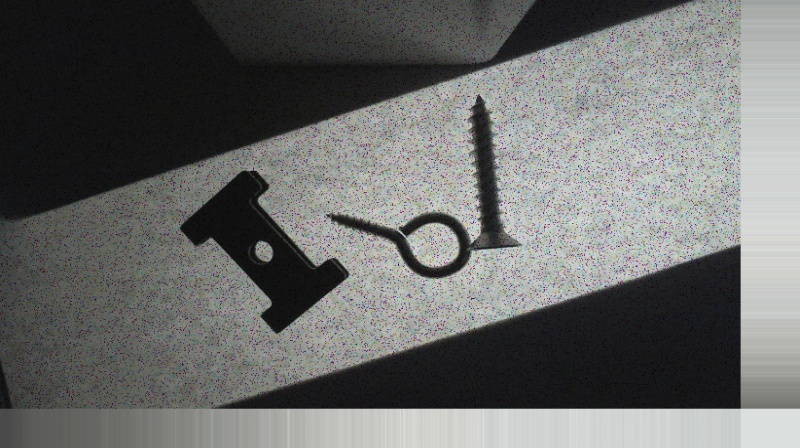O001: (326, 209, 471, 280)
O002: (177, 169, 353, 336)
S001: (461, 92, 523, 254)
